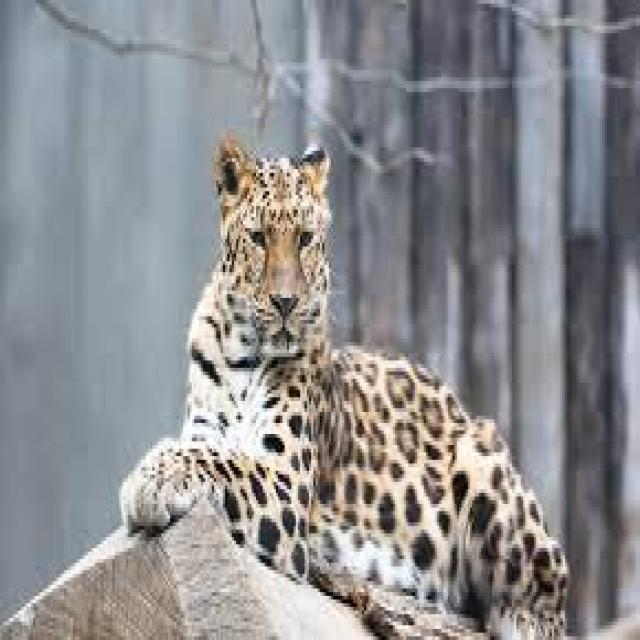Leopard: (108, 132, 605, 640)
